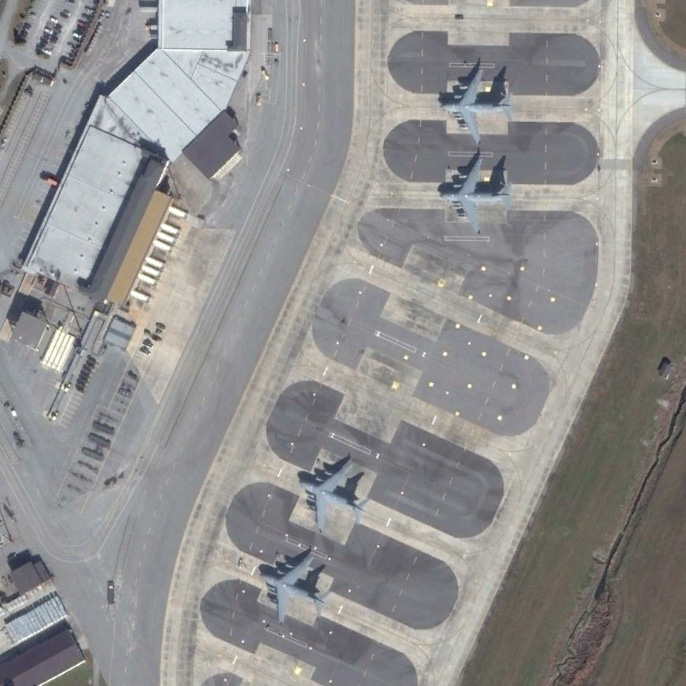A3: (437, 155, 515, 236), (440, 67, 516, 145), (299, 458, 370, 535), (260, 549, 330, 625)
